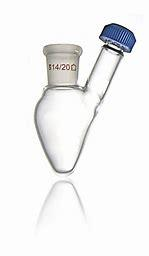Pear shaped flask: (16, 18, 142, 175)
